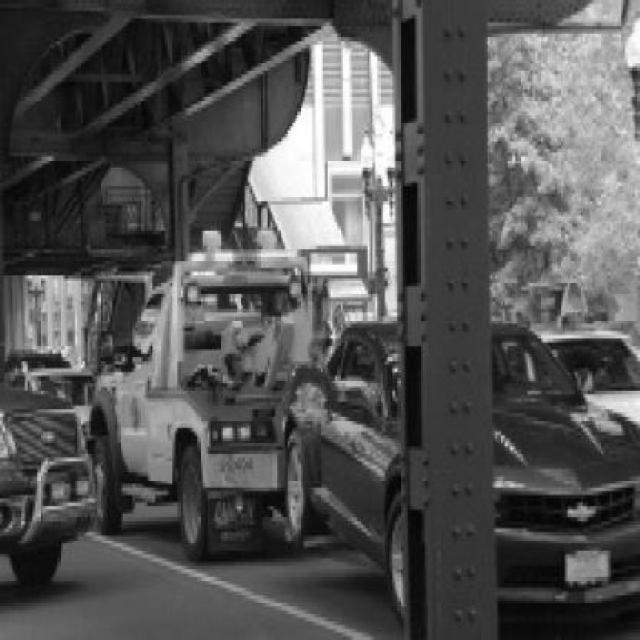Tow Truck: (82, 227, 333, 561)
